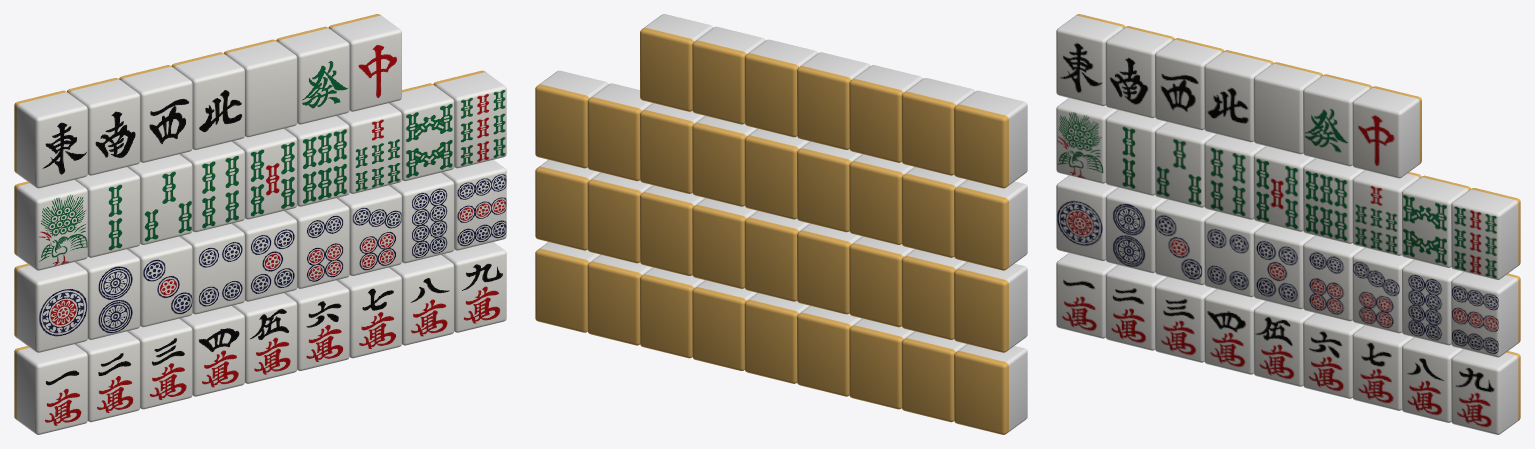
Rendered from mahjong.fbx.
3 renders of one model, left to right at view 1: azimuth 30°, elevation 25°; view 2: azimuth 150°, elevation 25°; view 3: azimuth 330°, elevation 25°, orthographic. The views are drawn at different scales.
Visible parts, largest first — view 1: TO, P1, M1, S1, S9, PE, CH, HT, SH, NA, HK, S8 (+22 smaller); view 2: TO, P1, M1, S1, S9, PE, CH, HT, SH, NA, HK, S8 (+22 smaller); view 3: CH, S9, P9, M9, HK, PE, TO, HT, NA, SH, S8, S7 (+22 smaller).
Part boxes in pixels (bbox=[...]): TO: bbox=[14, 90, 87, 188]; P1: bbox=[14, 262, 87, 352]; M1: bbox=[14, 344, 87, 434]; S1: bbox=[14, 180, 87, 270]; S9: bbox=[433, 70, 506, 168]; PE: bbox=[171, 52, 244, 149]; CH: bbox=[328, 14, 401, 111]; HT: bbox=[276, 26, 349, 124]; SH: bbox=[119, 65, 192, 162]; NA: bbox=[67, 78, 140, 175]; HK: bbox=[224, 39, 297, 137]; S8: bbox=[389, 83, 454, 181]; TO: bbox=[954, 90, 1027, 188]; P1: bbox=[954, 262, 1027, 352]; M1: bbox=[954, 344, 1027, 434]; S1: bbox=[954, 180, 1027, 270]; S9: bbox=[535, 70, 608, 168]; PE: bbox=[797, 52, 870, 149]; CH: bbox=[640, 14, 713, 111]; HT: bbox=[692, 26, 765, 124]; SH: bbox=[849, 65, 922, 162]; NA: bbox=[901, 78, 974, 175]; HK: bbox=[744, 39, 817, 137]; S8: bbox=[587, 83, 652, 181]; CH: bbox=[1352, 86, 1421, 178]; S9: bbox=[1451, 188, 1520, 279]; P9: bbox=[1451, 272, 1520, 357]; M9: bbox=[1451, 349, 1520, 434]; HK: bbox=[1253, 62, 1322, 154]; PE: bbox=[1204, 50, 1273, 142]; TO: bbox=[1056, 14, 1125, 106]; HT: bbox=[1303, 74, 1372, 166]; NA: bbox=[1105, 26, 1174, 118]; SH: bbox=[1155, 38, 1223, 130]; S8: bbox=[1402, 175, 1470, 267]; S7: bbox=[1352, 170, 1421, 255].
Size of the model in its own units: 1800 by 1160 by 160.
